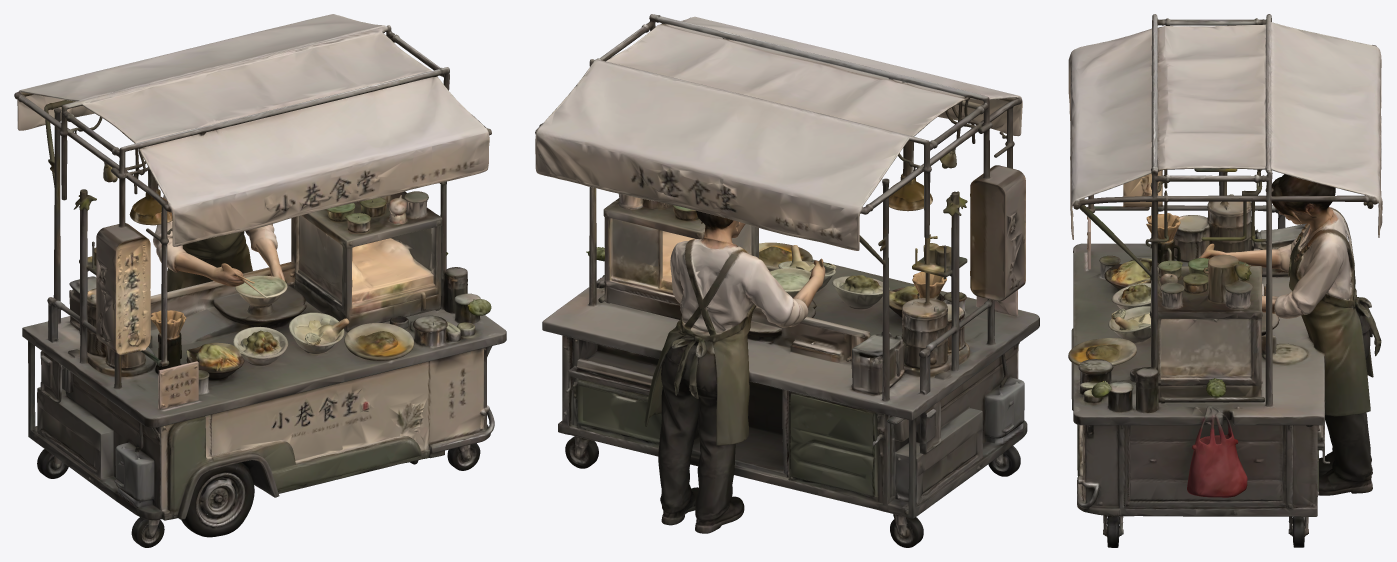
The model's file is cart.glb.
3 views of the same model, side by side, from view 1: azimuth 30°, elevation 25°; view 2: azimuth 150°, elevation 25°; view 3: azimuth 270°, elevation 25° (orthographic). The views are drawn at different scales.
Visible parts, largest first — view 1: tripo_node_44a93b82-0652-490c-b845-25ff6ee51e05; view 2: tripo_node_44a93b82-0652-490c-b845-25ff6ee51e05; view 3: tripo_node_44a93b82-0652-490c-b845-25ff6ee51e05.
Part boxes in pixels (x1=…): tripo_node_44a93b82-0652-490c-b845-25ff6ee51e05: x1=14, y1=14, x2=506, y2=547; tripo_node_44a93b82-0652-490c-b845-25ff6ee51e05: x1=535, y1=14, x2=1039, y2=547; tripo_node_44a93b82-0652-490c-b845-25ff6ee51e05: x1=1068, y1=14, x2=1382, y2=547.
Size of the model in its own units: 0.9764 by 0.9285 by 0.6959.
1 material, 1 textured.
